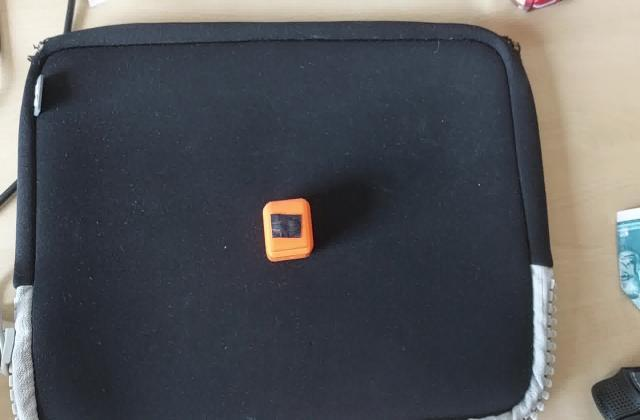black: (267, 210, 305, 243)
sticker: (259, 196, 318, 266)
